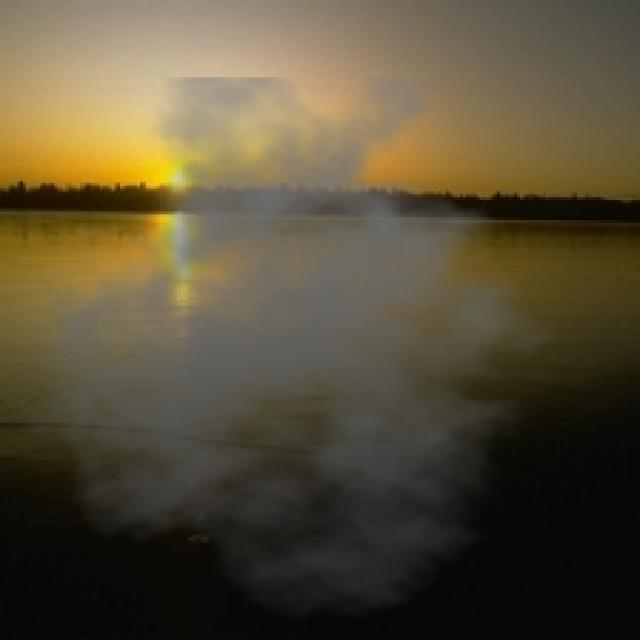Smoke: (20, 77, 586, 620)
